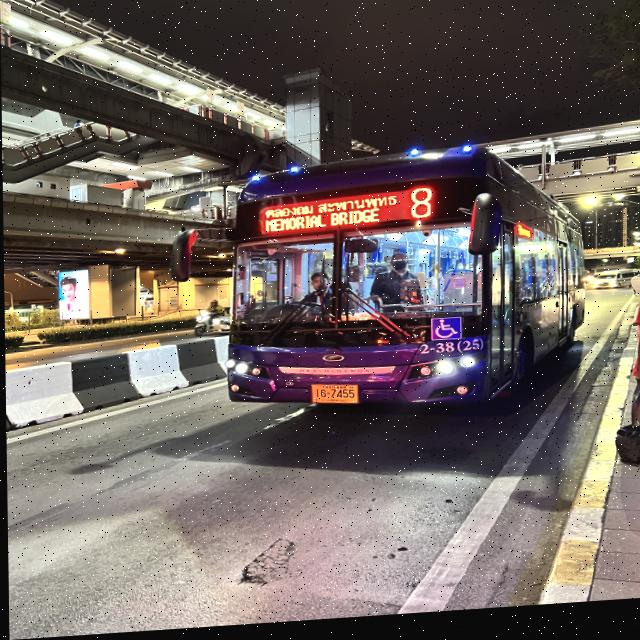Bus-Line-Number: (401, 186, 438, 230)
Destination-Sign-Normal: (260, 198, 402, 242)
TSB-Bus: (221, 145, 586, 428)
